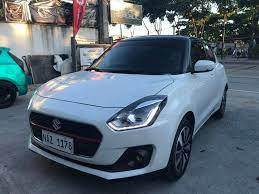Hatchback: (23, 34, 229, 182)
